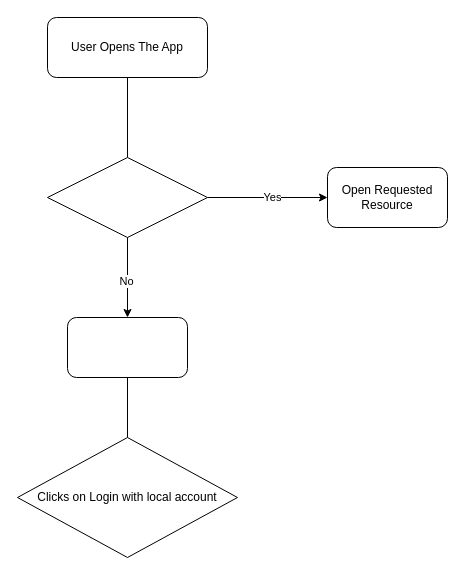
This 465x575 diagram has some shape labels left out. The shapes that lost their labels are listed below. From the top down, each one's centre as x and y in pixels, then its label:
At point 127,197: "Is User authenticated?".
At point 127,347: "Open Login Page".
